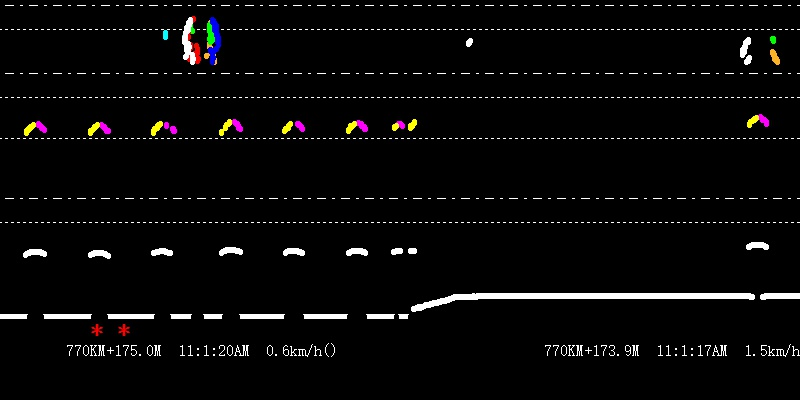J: (181, 8, 228, 83)
face_1: (162, 24, 169, 42)
face_down: (463, 25, 475, 50)
star: (86, 323, 104, 340), (116, 321, 132, 338)
y_p: (15, 108, 373, 277)
